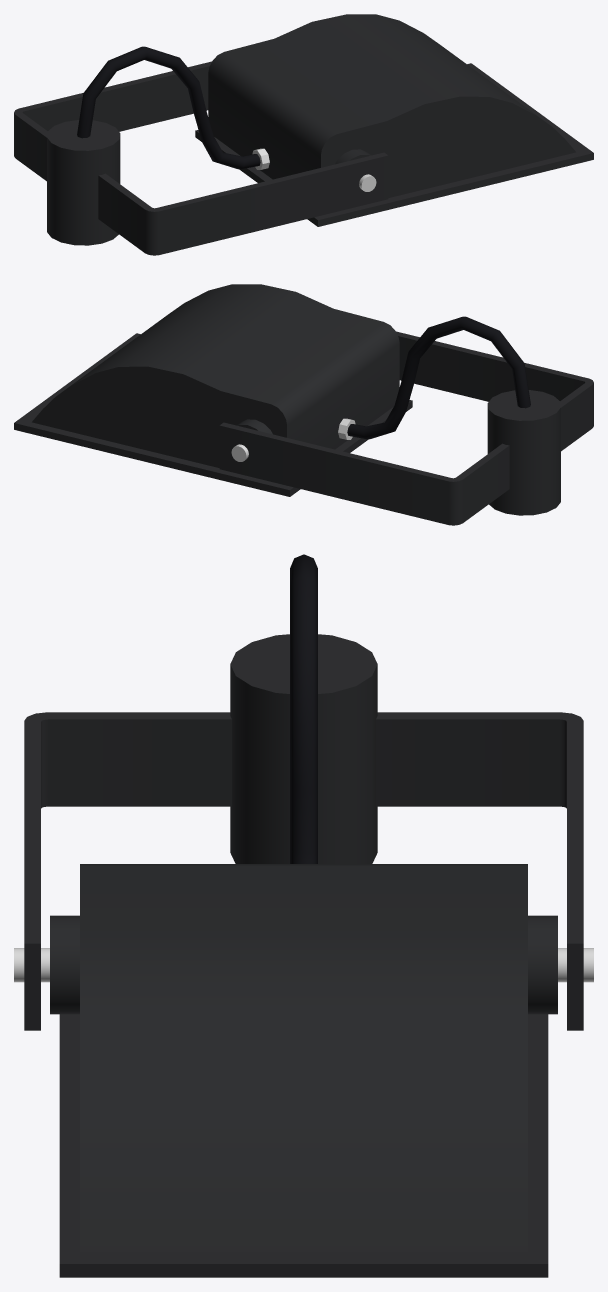
The model's file is Moritz_I.glb.
The picture shows the model from 3 angles, top to bottom: view 1: azimuth 30°, elevation 25°; view 2: azimuth 150°, elevation 25°; view 3: azimuth 270°, elevation 25°; orthographic projection. The views are drawn at different scales.
Parts seen in each view (by area): view 1: Gehaeuse.001, Halterung.001, Mastrohr.001, Kabel.002, Halteringe.001; view 2: Gehaeuse.001, Halterung.001, Mastrohr.001, Kabel.002, Halteringe.001; view 3: Gehaeuse.001, Halterung.001, Mastrohr.001, Kabel.002, Halteringe.001.
Part boxes in pixels (left/top/right/bottom): Gehaeuse.001: left=195, top=14, right=593, bottom=226; Halterung.001: left=14, top=61, right=388, bottom=255; Mastrohr.001: left=47, top=120, right=120, bottom=245; Kabel.002: left=77, top=46, right=260, bottom=169; Halteringe.001: left=335, top=149, right=376, bottom=191; Gehaeuse.001: left=14, top=284, right=412, bottom=496; Halterung.001: left=219, top=331, right=593, bottom=525; Mastrohr.001: left=487, top=390, right=560, bottom=515; Kabel.002: left=347, top=316, right=530, bottom=439; Halteringe.001: left=231, top=419, right=272, bottom=461; Gehaeuse.001: left=59, top=864, right=548, bottom=1277; Halterung.001: left=24, top=712, right=583, bottom=1030; Mastrohr.001: left=230, top=634, right=377, bottom=863; Kabel.002: left=290, top=554, right=317, bottom=863; Halteringe.001: left=14, top=915, right=593, bottom=1014.
Size of the model in its own units: 0.6378 by 0.2137 by 0.3345.
5 materials, 4 textured.
